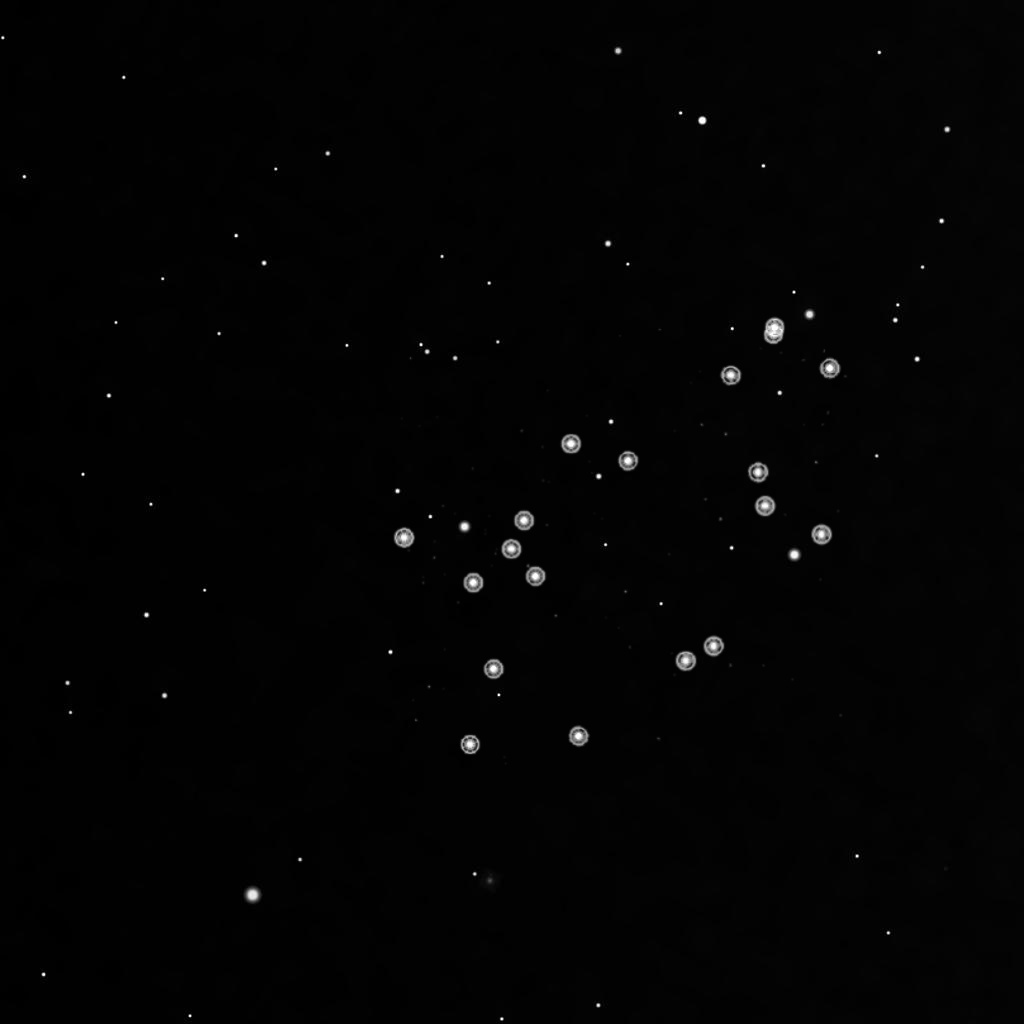canis_major: (452, 428, 641, 598)
